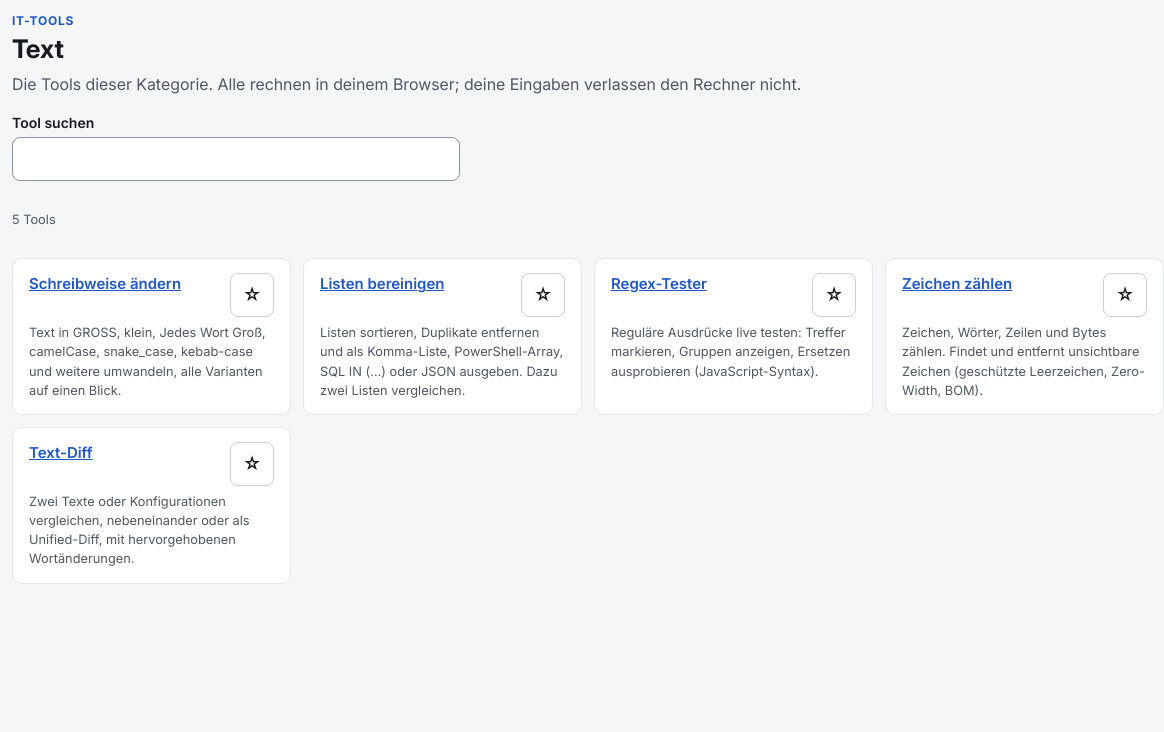
ToolsOverviewPage › zeigt auf der Seite einer Kategorie nur deren Tools
Expected: the heading "Text" is shown, [12,33,64,64]
Expected: the link "Regex-Tester" is shown, [611,273,707,296]
Type "subnetz" into the search field labelled "Tool suchen".
click(236, 159); type("subnetz")  # box [12,137,460,181]
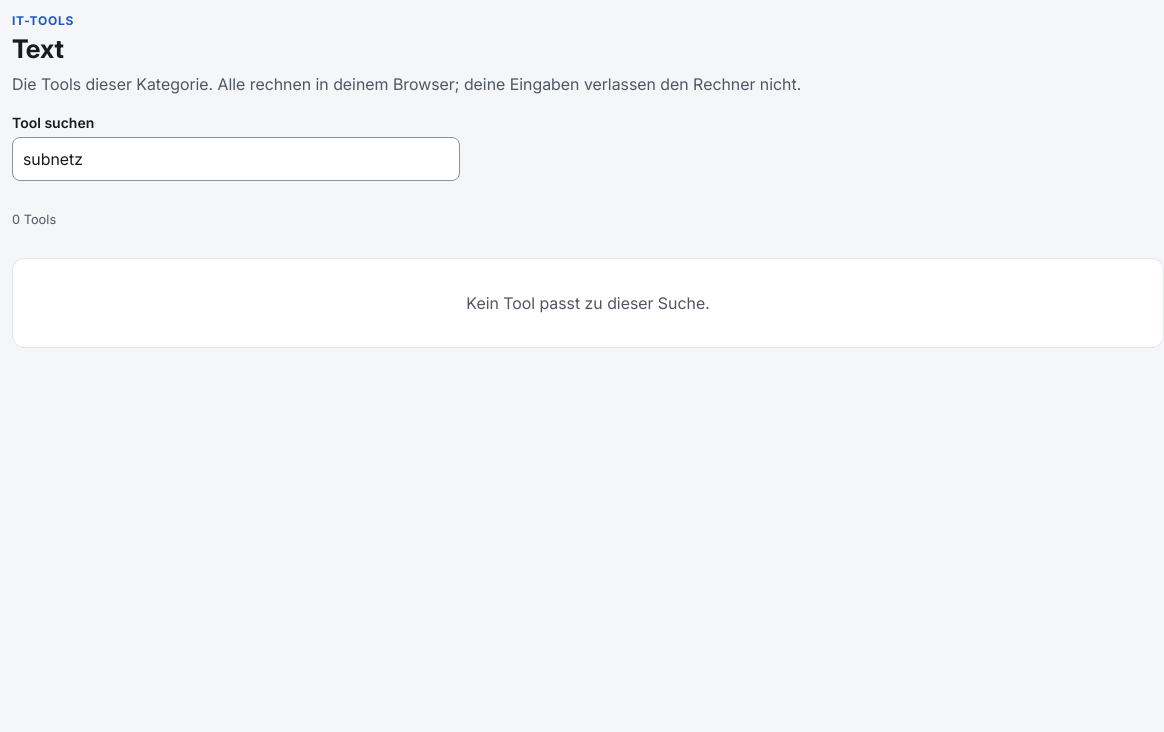
Expected: the text "Kein Tool passt zu dieser Suche." is shown, [12,258,1163,348]
